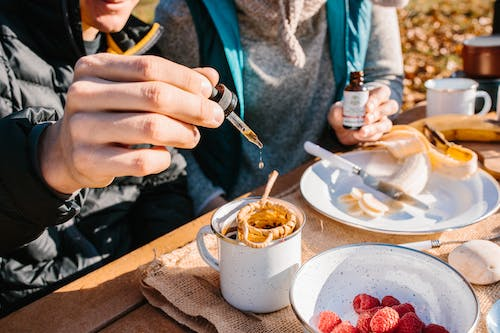knife: (303, 140, 430, 211)
